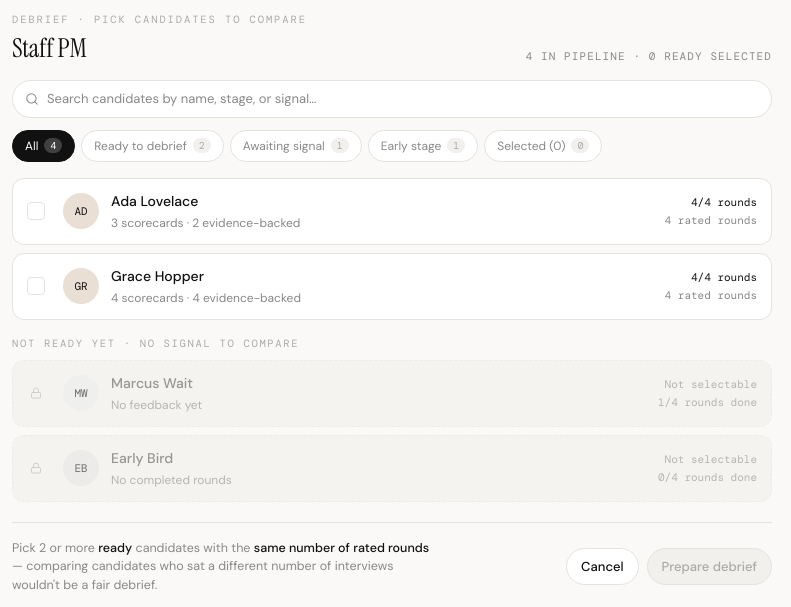
Test: CandidatePicker — confirm gate counts only READY selected › CTA stays disabled at 1 ready selected, enables at 2
Click the button with id "cp-card-cr1" at point(81, 211), box [12,178,772,245]
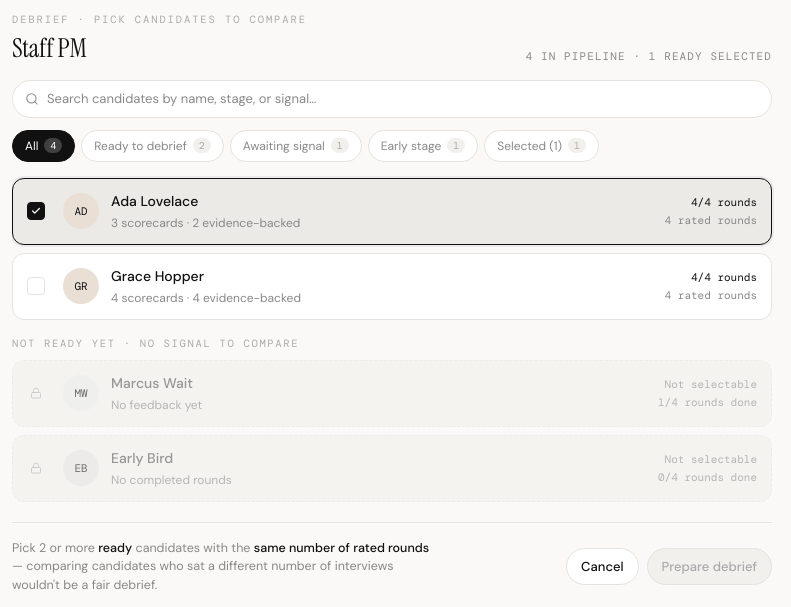
Check: the button with id "cp-confirm" is disabled, box [647,548,772,585]
Click the button with id "cp-card-cr2" at point(81, 286), box [12,253,772,320]
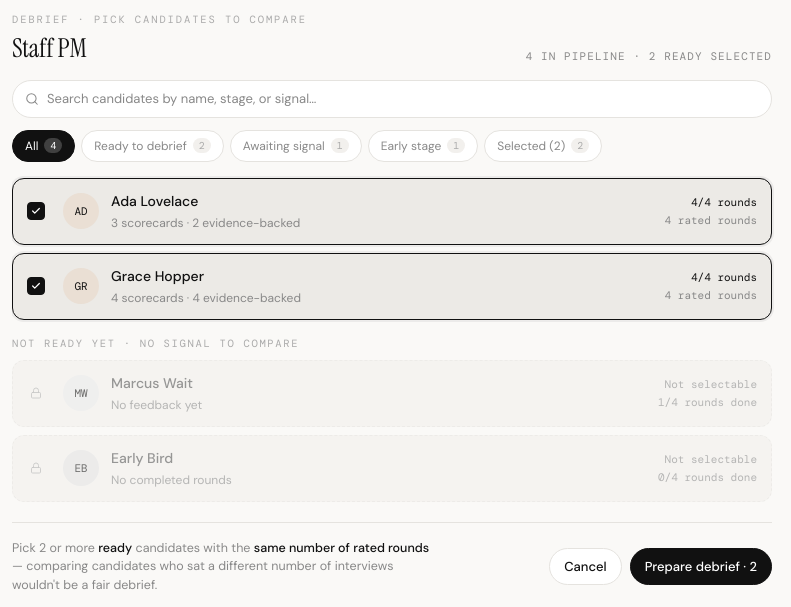
Check: the button with id "cp-confirm" is enabled, box [630,548,772,585]
Check: the button with id "cp-confirm" shows "2", box [630,548,772,585]
